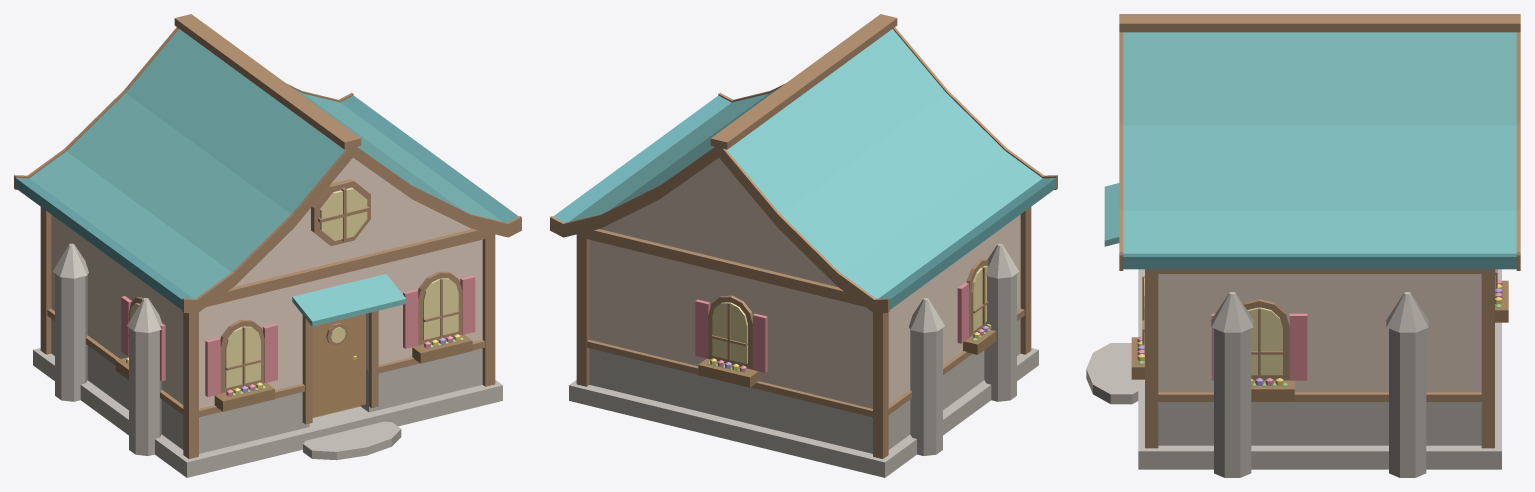
The model's file is chapel_peach.glb.
3 views of the same model, side by side, from view 1: azimuth 30°, elevation 25°; view 2: azimuth 150°, elevation 25°; view 3: azimuth 270°, elevation 25° (orthographic). The views are drawn at different scales.
Visible parts, largest first — view 1: Player; view 2: Player; view 3: Player.
Part boxes in pixels (<box>): Player: <box>14,14,521,477</box>; Player: <box>550,14,1057,477</box>; Player: <box>1086,14,1520,477</box>.
Bounding box in the file's own units: 7.07 × 5.89 × 6.45.
